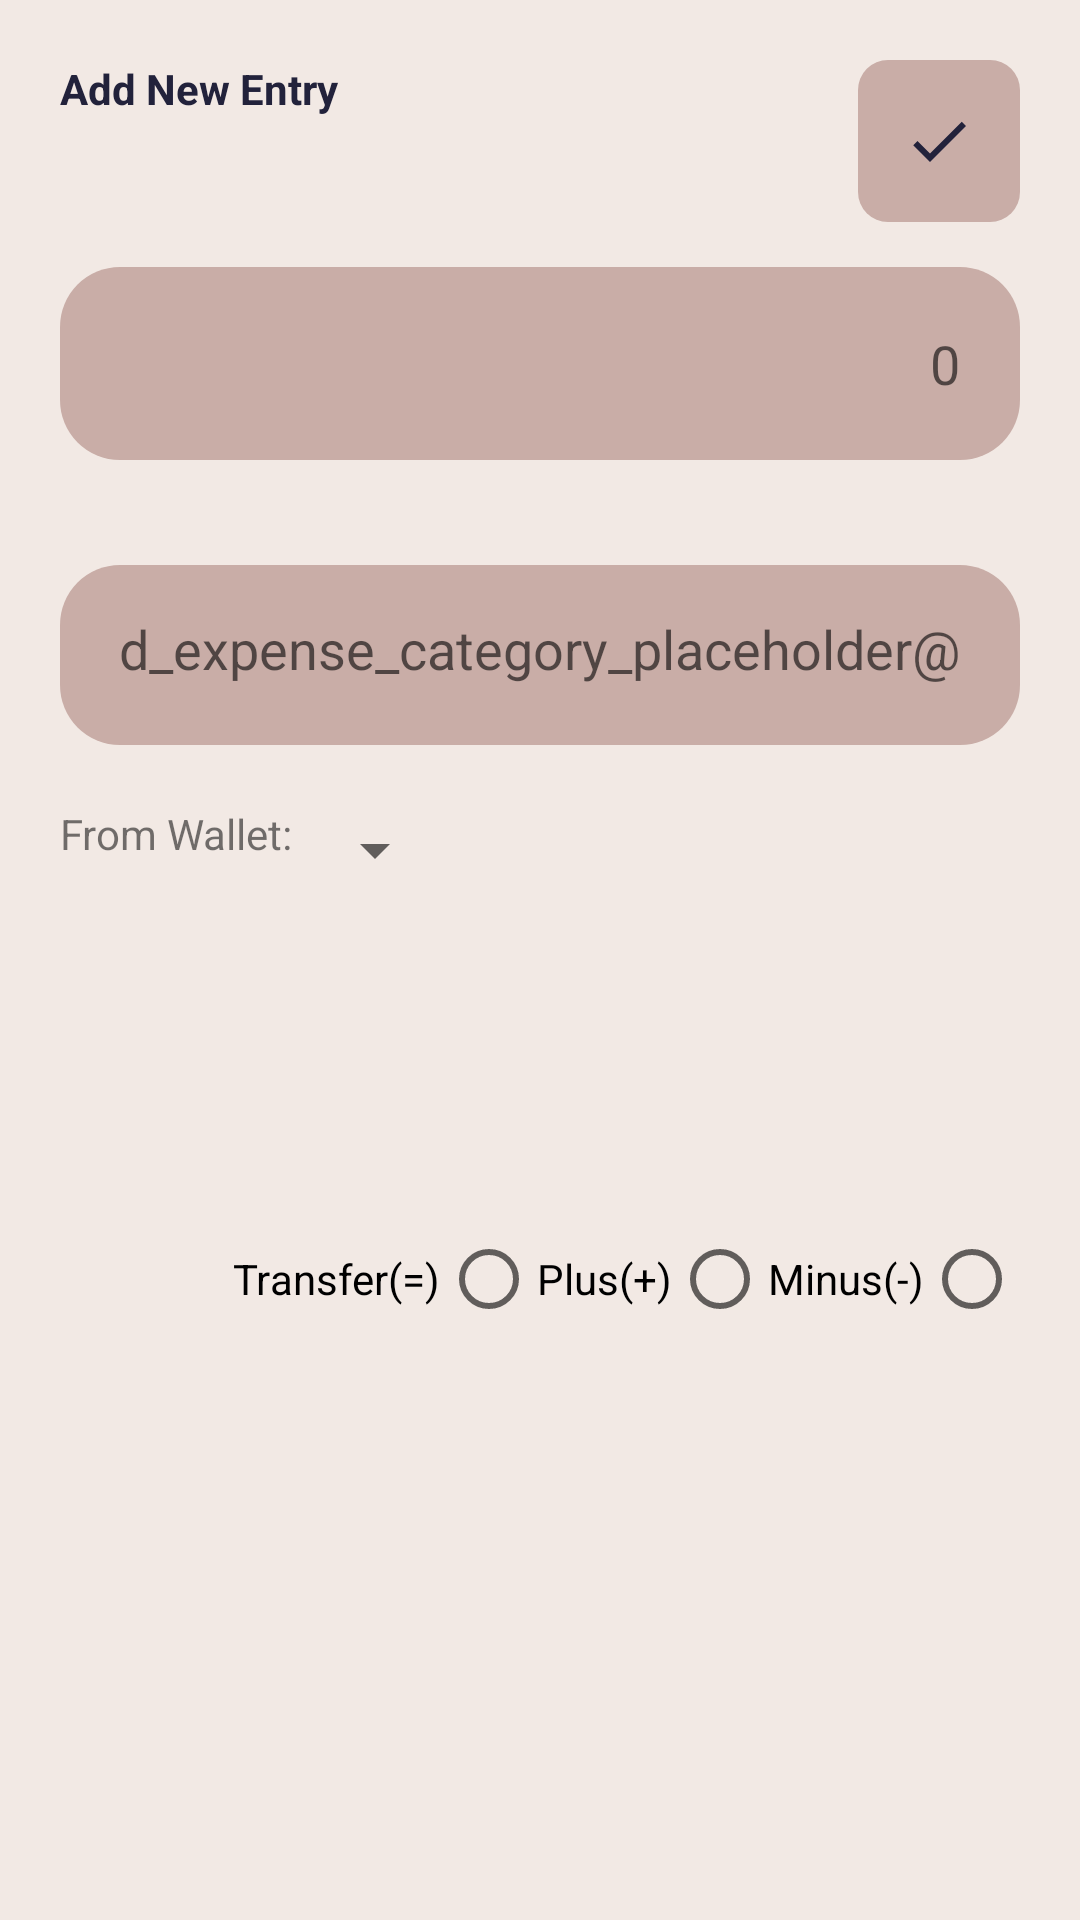

Where icons sit on this 1080 × 1920 app screen, as rect(x1, y1, x2, y2):
save tick: rect(858, 60, 1020, 222)
